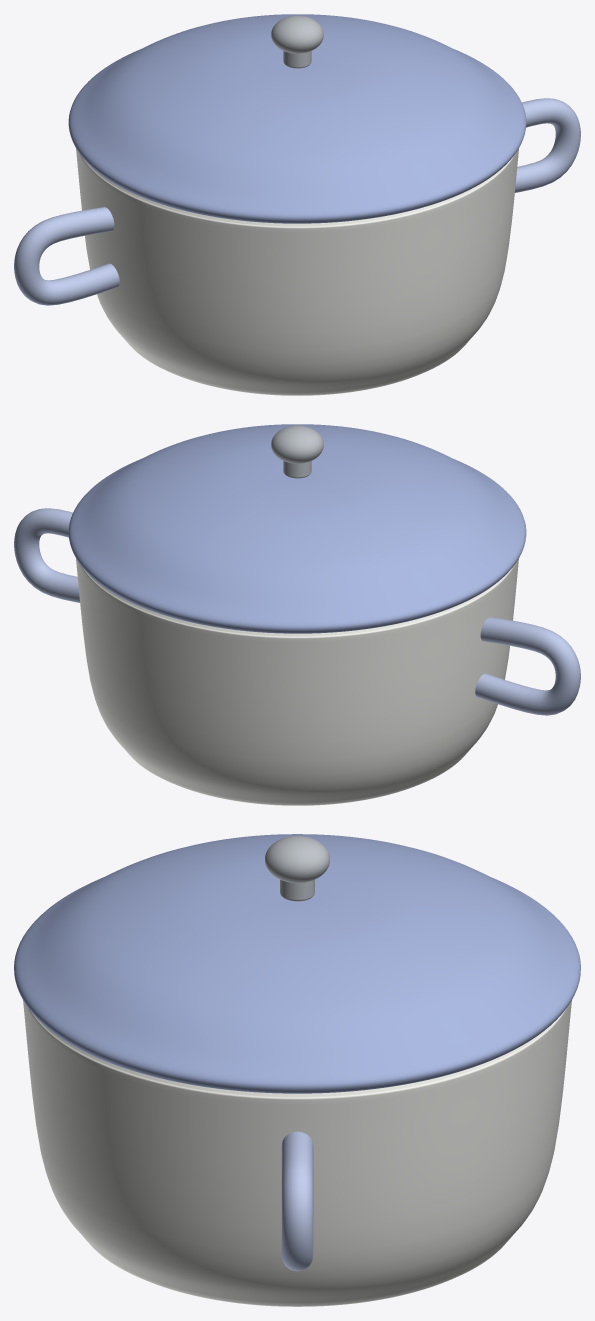
The model's file is lidded-pot.glb.
3 renders of one model, top to bottom at view 1: azimuth 30°, elevation 25°; view 2: azimuth 150°, elevation 25°; view 3: azimuth 270°, elevation 25°, orthographic. The views are drawn at different scales.
Visible parts, largest first — view 1: double-walled-domed-pot-lid, hollow-vessel-with-rolled-lip, side-handles-003, side-handles-006, lid-with-attached-knob-012; view 2: double-walled-domed-pot-lid, hollow-vessel-with-rolled-lip, side-handles-003, side-handles-006, lid-with-attached-knob-012; view 3: double-walled-domed-pot-lid, hollow-vessel-with-rolled-lip, side-handles-006, lid-with-attached-knob-012, lid-with-attached-knob-011.
Boxes of the visible parts, x1=… form: double-walled-domed-pot-lid: x1=68, y1=14, x2=526, y2=223; hollow-vessel-with-rolled-lip: x1=76, y1=148, x2=518, y2=395; side-handles-003: x1=14, y1=207, x2=119, y2=305; side-handles-006: x1=515, y1=98, x2=580, y2=192; lid-with-attached-knob-012: x1=271, y1=15, x2=323, y2=53; double-walled-domed-pot-lid: x1=68, y1=424, x2=526, y2=633; hollow-vessel-with-rolled-lip: x1=76, y1=558, x2=518, y2=805; side-handles-003: x1=475, y1=617, x2=580, y2=715; side-handles-006: x1=14, y1=508, x2=79, y2=602; lid-with-attached-knob-012: x1=271, y1=425, x2=323, y2=463; double-walled-domed-pot-lid: x1=14, y1=834, x2=580, y2=1093; hollow-vessel-with-rolled-lip: x1=23, y1=1000, x2=571, y2=1306; side-handles-006: x1=281, y1=1131, x2=313, y2=1271; lid-with-attached-knob-012: x1=265, y1=836, x2=329, y2=883; lid-with-attached-knob-011: x1=280, y1=879, x2=314, y2=901.
Size of the model in its own units: 2 by 1.06 by 1.41.
